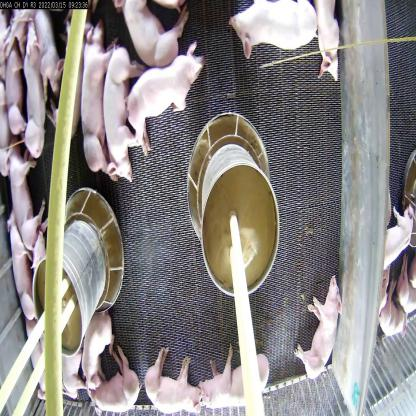Pig: (120, 44, 206, 148), (286, 274, 344, 388), (226, 0, 324, 65), (0, 121, 43, 263), (18, 10, 54, 170), (103, 36, 140, 183), (116, 0, 191, 69), (1, 221, 46, 322), (81, 21, 110, 173), (146, 347, 201, 415), (69, 306, 108, 382), (190, 359, 275, 393), (94, 350, 138, 414), (34, 313, 60, 416), (370, 206, 416, 264), (36, 27, 68, 107), (372, 278, 411, 341), (59, 345, 85, 395)
